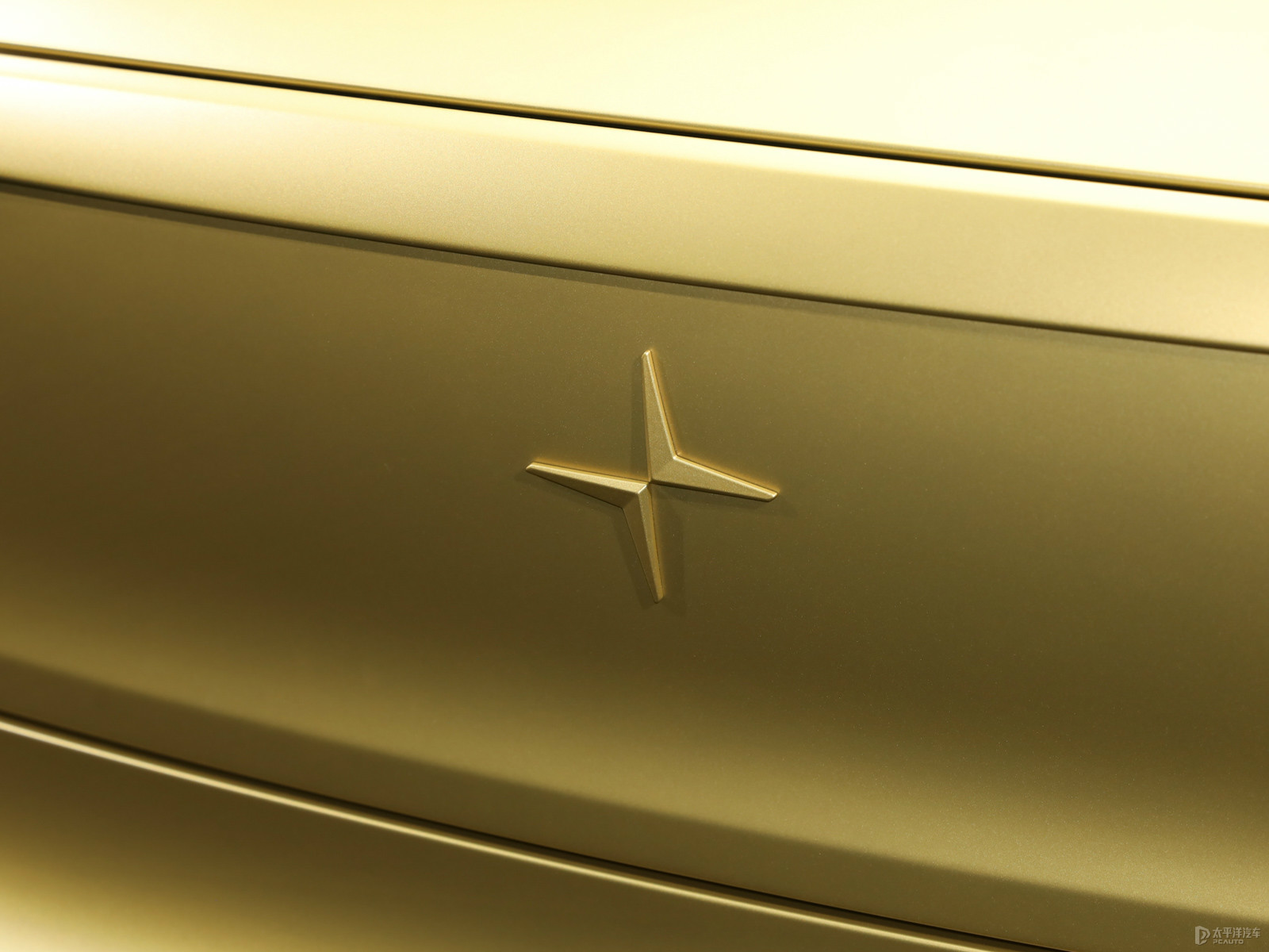Polestar: (526, 351, 777, 602)
